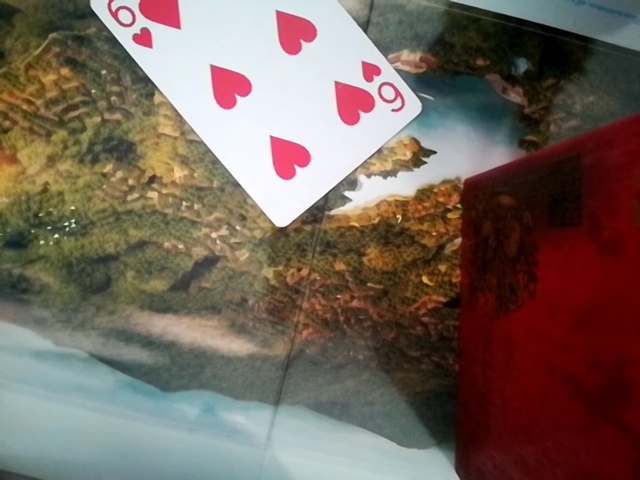hx 6: (103, 4, 422, 228)
